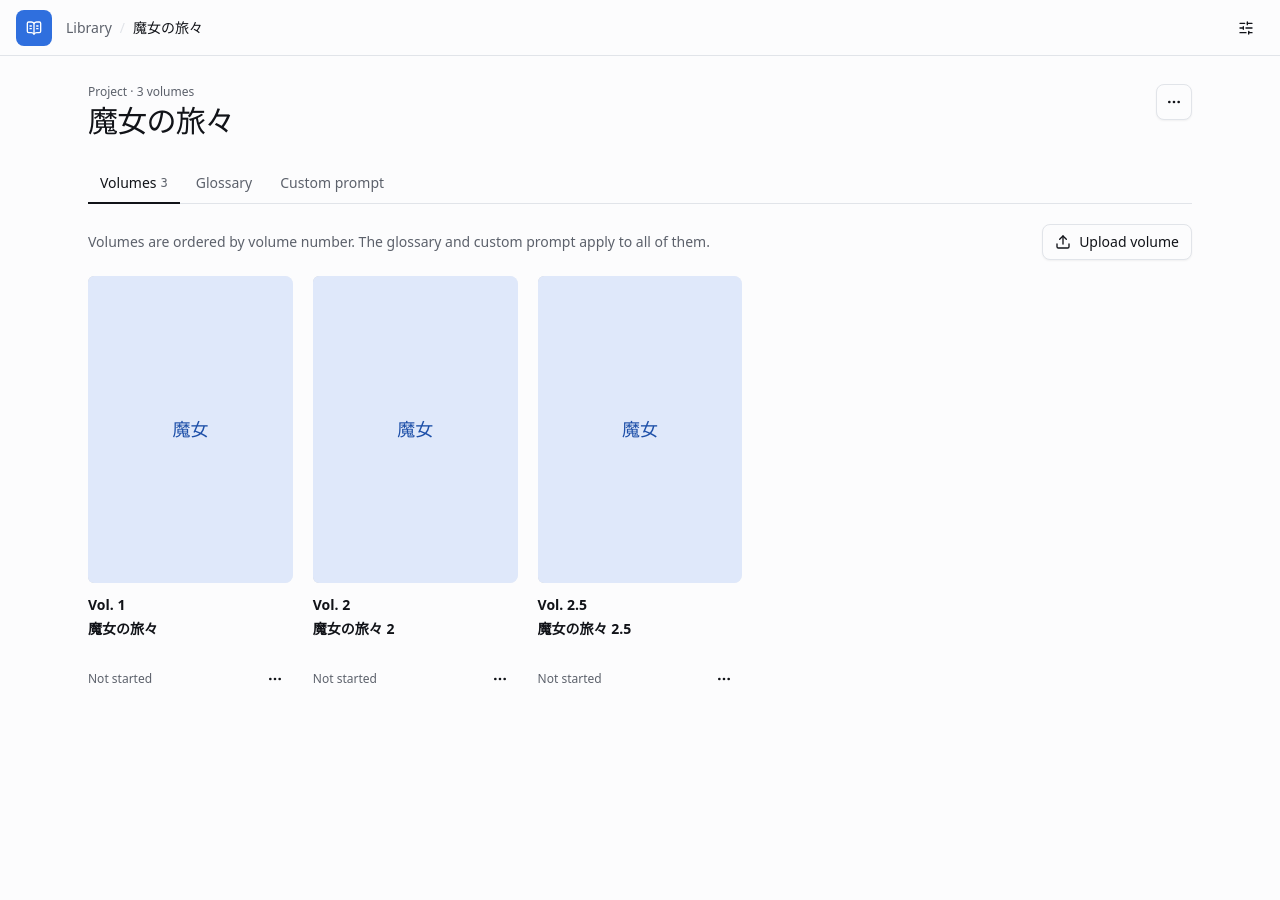
Test: Project page › does not save a blank name
The width and height of the screenshot is (1280, 900).
Step 1. Click the button named "Project actions" → coordinates (1174, 102), box [1156,84,1192,120]
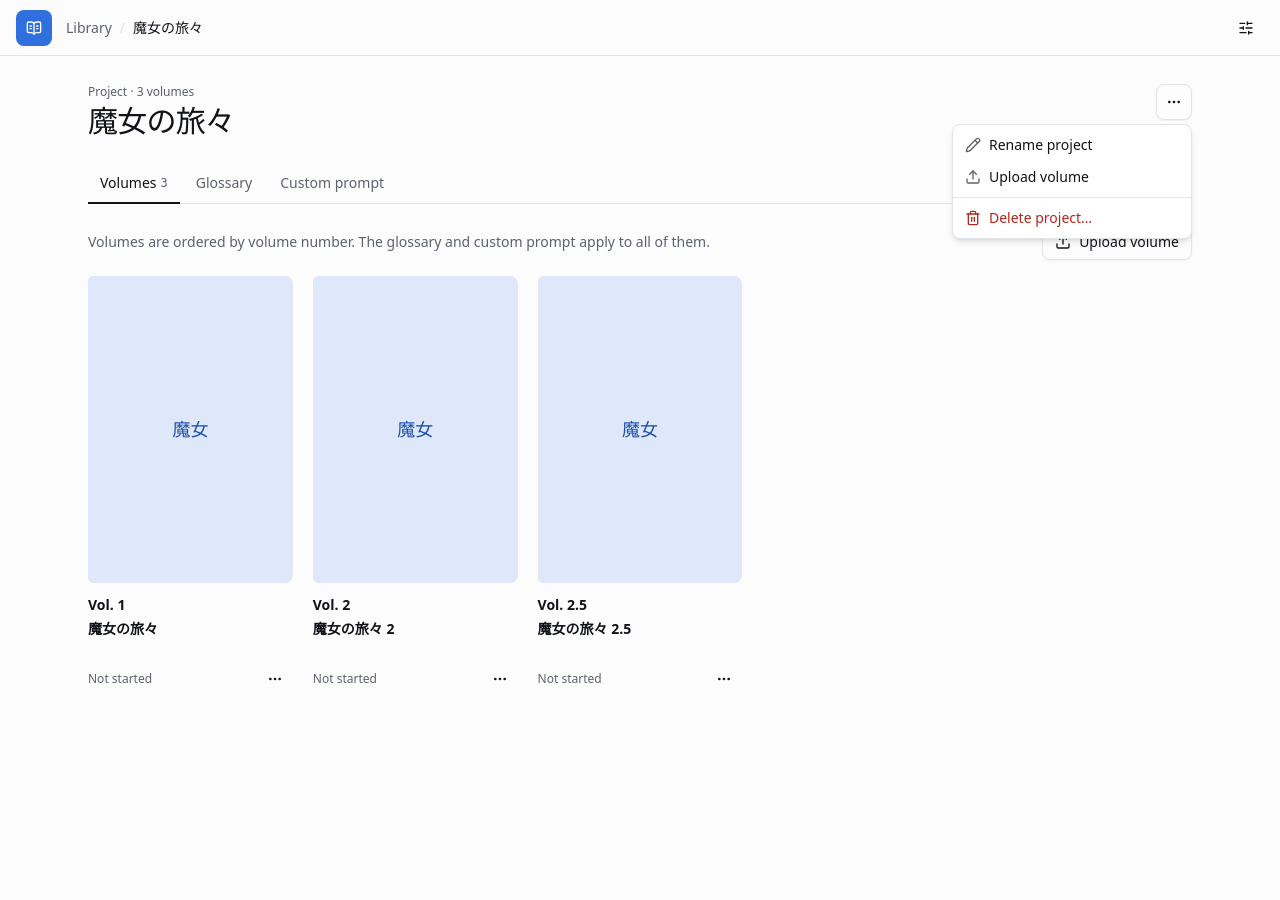
Step 2. Click the menu item "Rename project" → coordinates (1029, 144), box [965,135,1093,154]
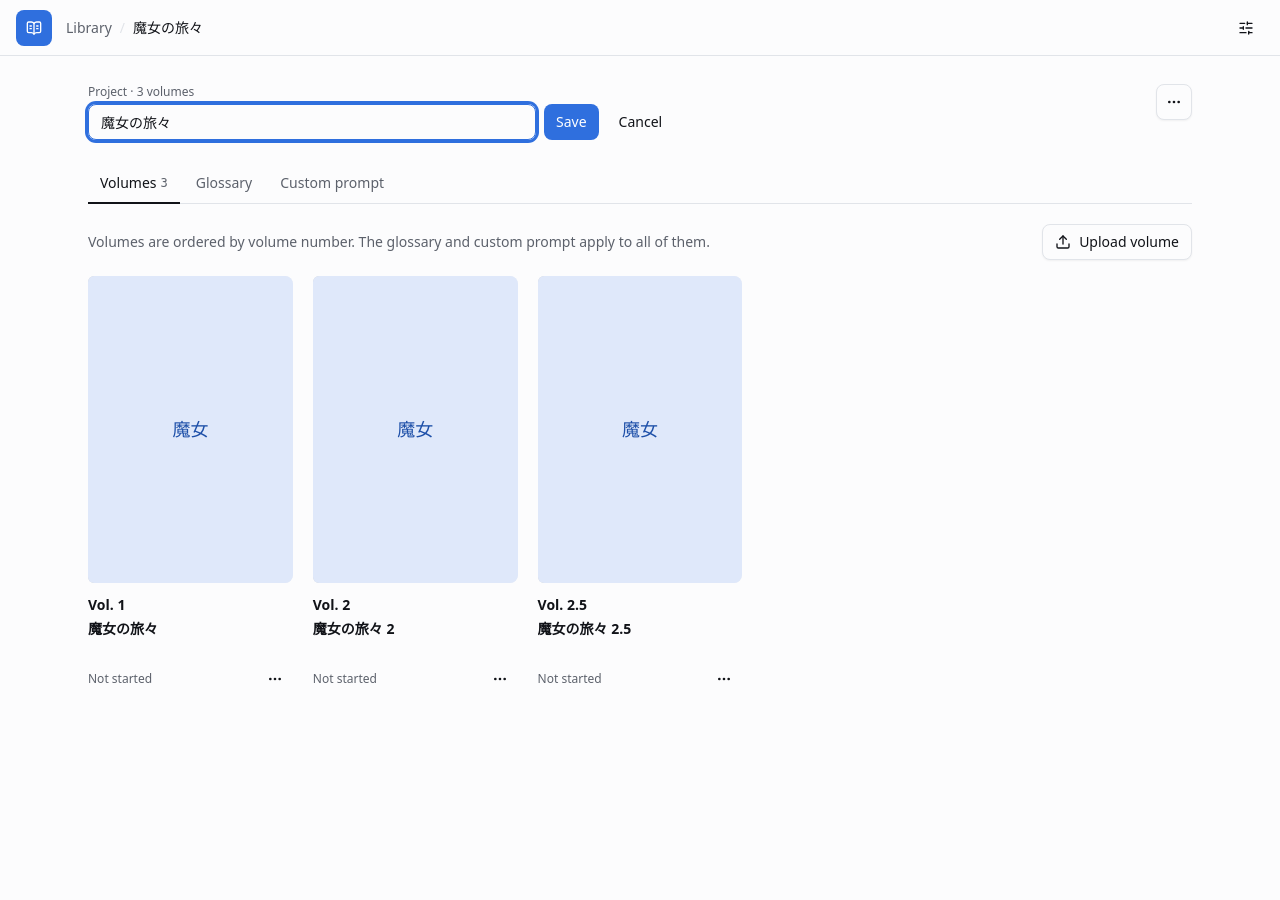
Step 3. Clear the field named "Project name" → coordinates (312, 122), box [88,104,536,140]
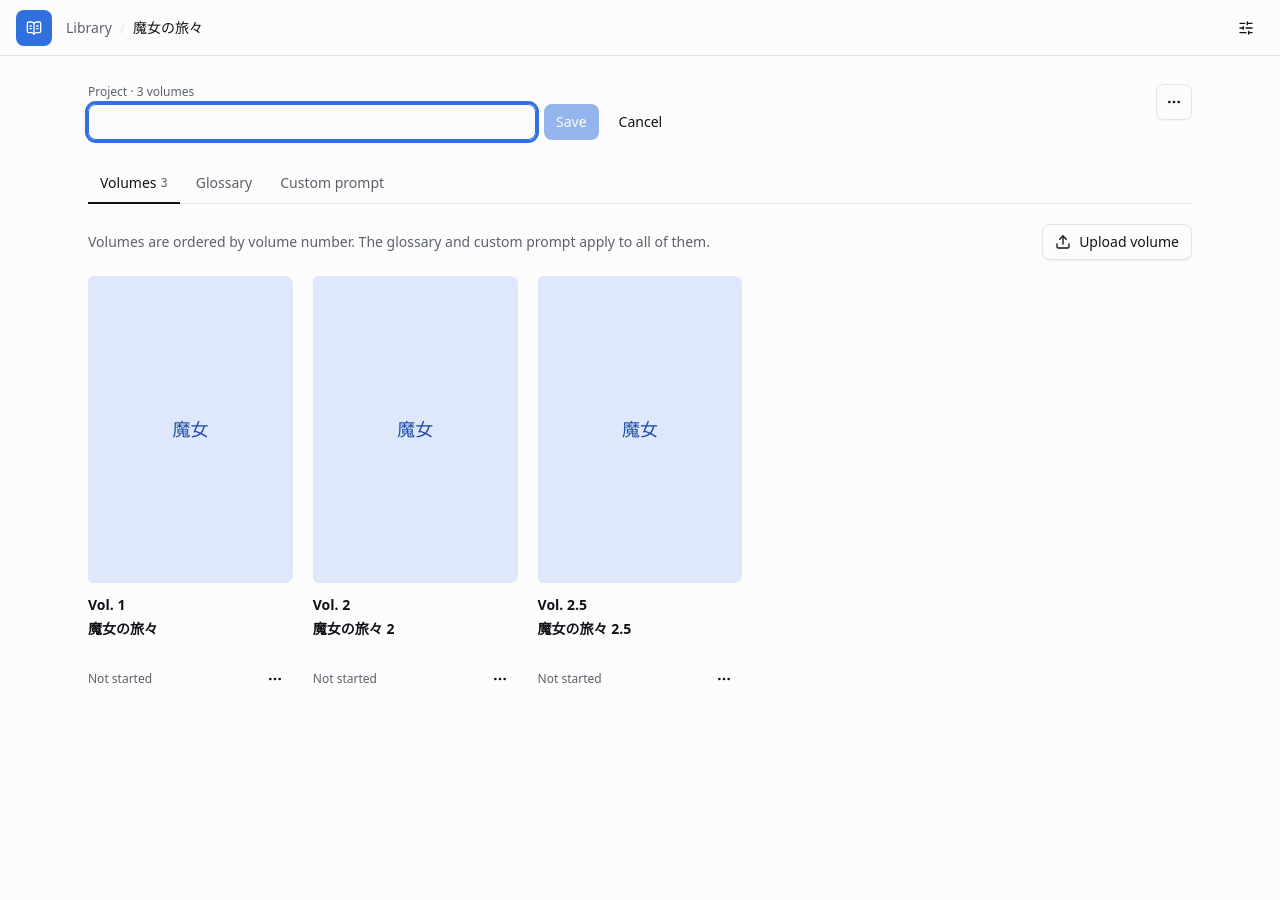
Now the button "Save" is disabled, box [544,104,599,140]
